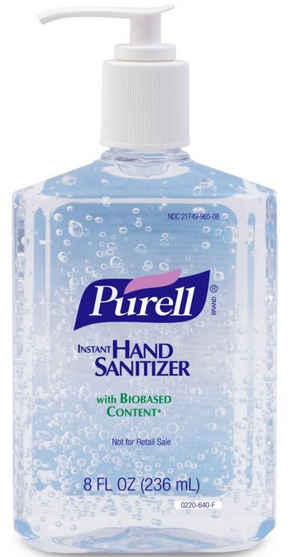Sanitizer: (8, 3, 286, 557)
